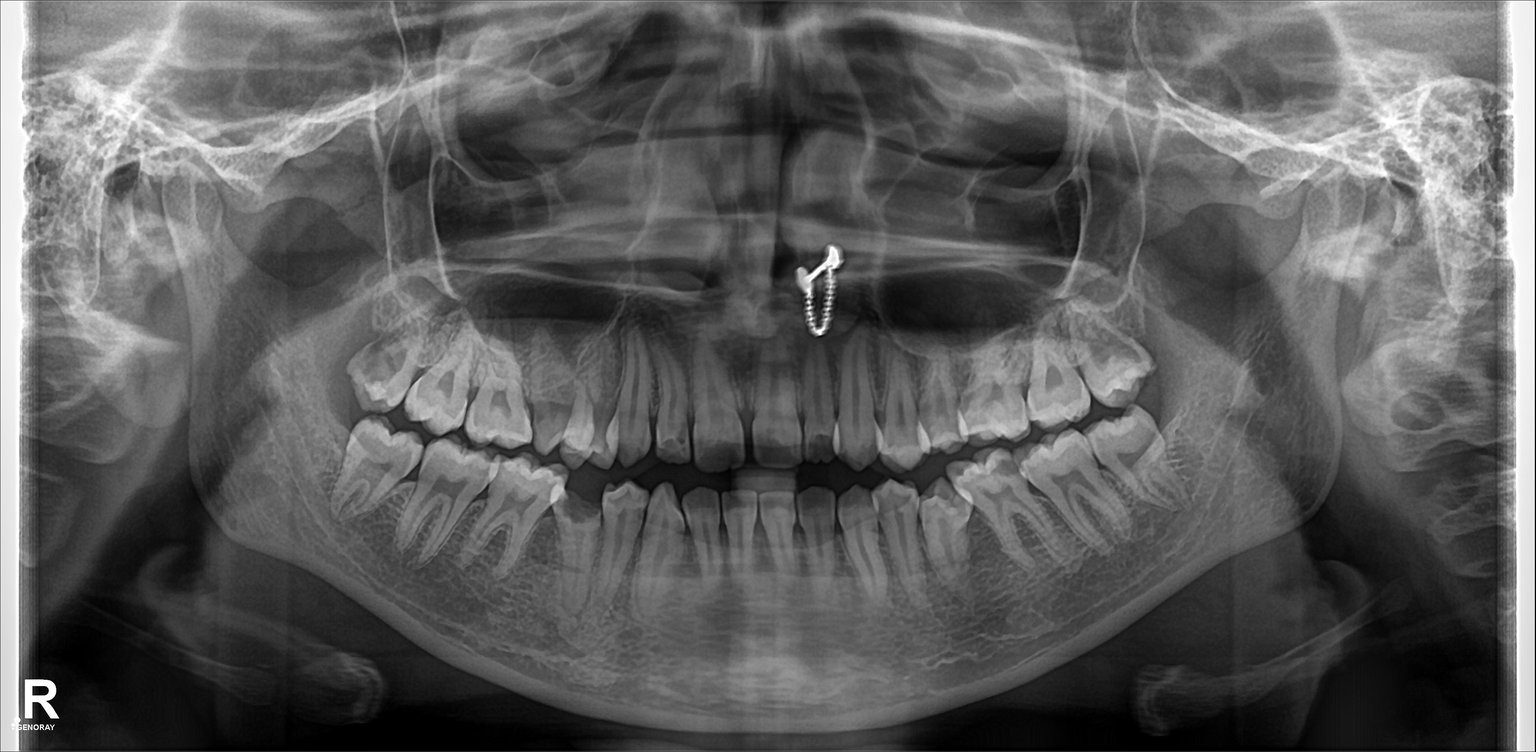Dental Caries: (350, 341, 416, 383), (549, 491, 605, 524)
